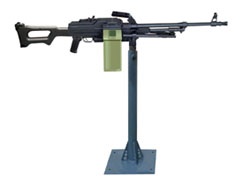rifle: (15, 8, 230, 179)
